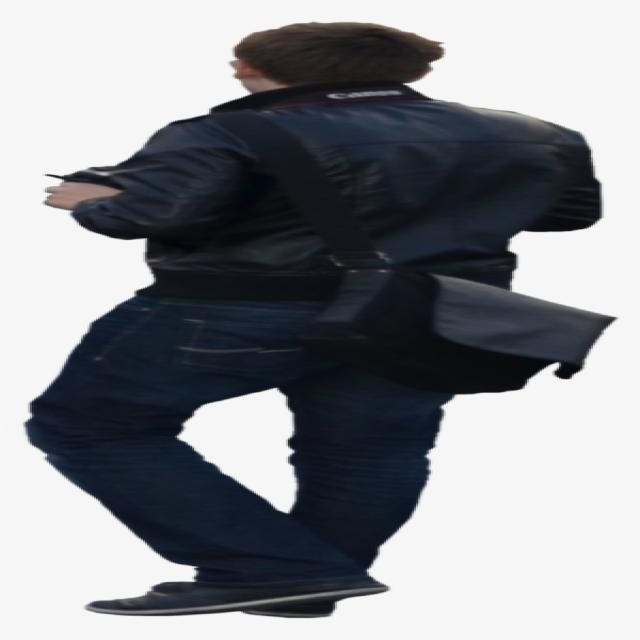adult: (24, 23, 600, 618)
